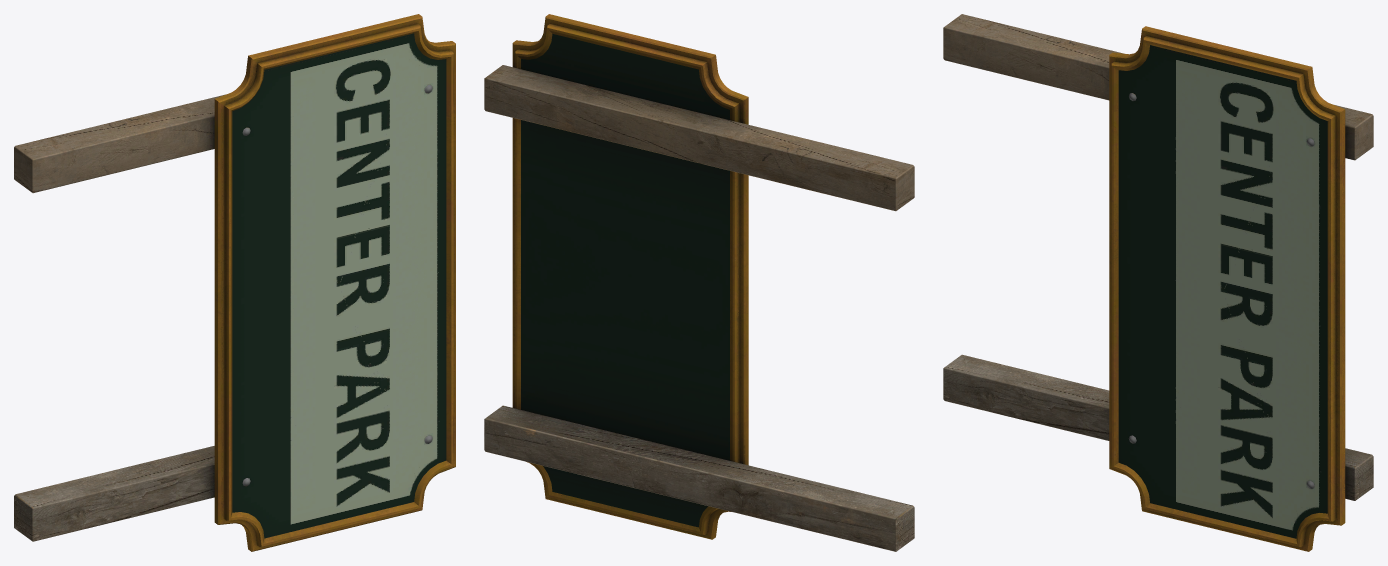
Rendered from cP_CenterPark.dae.
The picture shows the model from 3 angles, left to right: view 1: azimuth 30°, elevation 25°; view 2: azimuth 150°, elevation 25°; view 3: azimuth 330°, elevation 25°; orthographic projection. The views are drawn at different scales.
Visible parts, largest first — view 1: cP_CenterPark.001; view 2: cP_CenterPark.001; view 3: cP_CenterPark.001.
Part boxes in pixels (x1,y1,x2,y2): cP_CenterPark.001: (14, 14, 455, 551); cP_CenterPark.001: (484, 14, 914, 551); cP_CenterPark.001: (943, 14, 1373, 551).
Bounding box in the file's own units: 3.11 × 0.3954 × 3.47.
